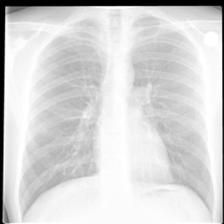tuberculosis: (14, 11, 215, 224)
